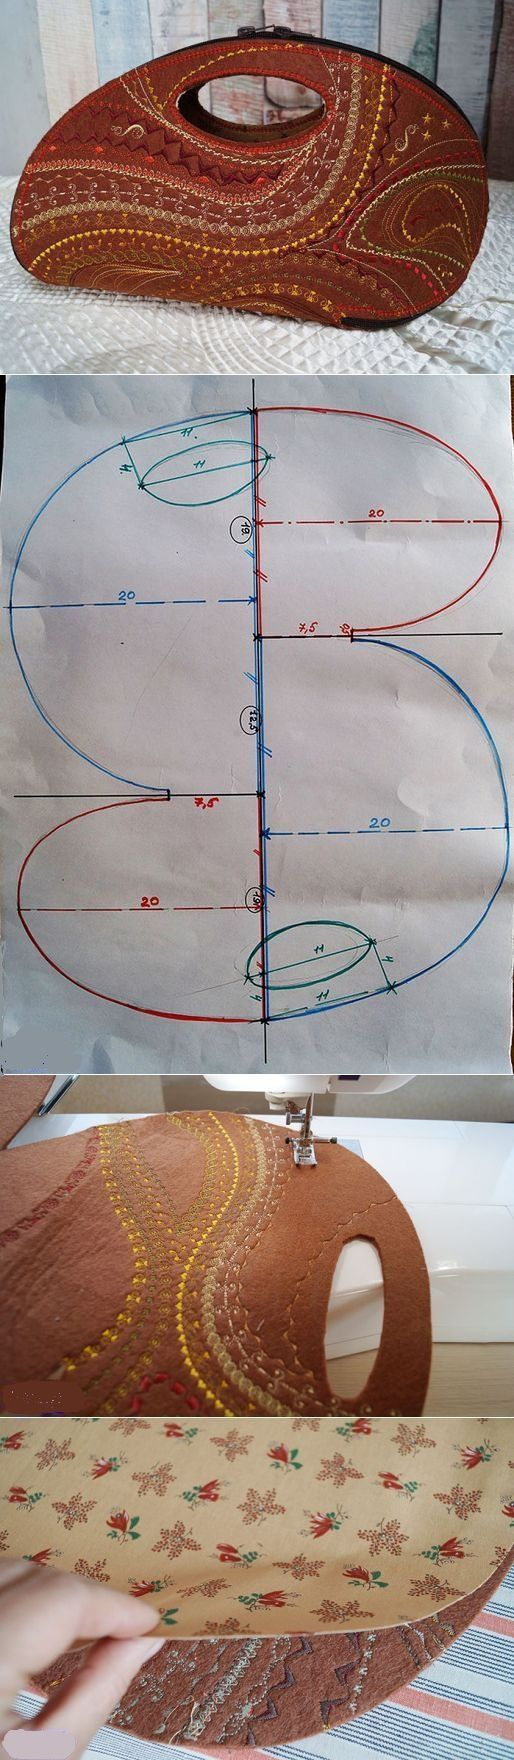cuero: (11, 30, 492, 332)
